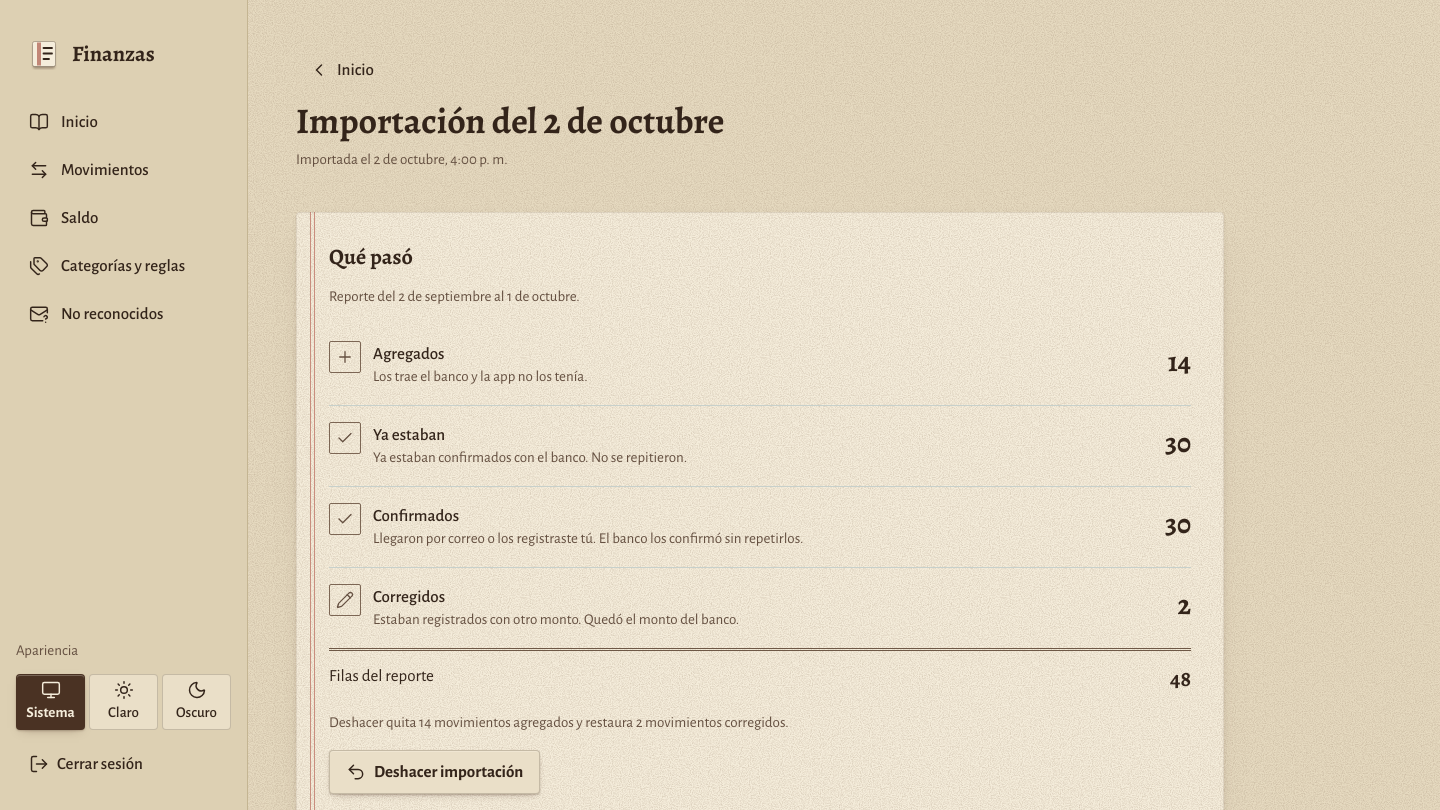
deshacer solo se ofrece cuando lo permite el servidor y exige confirmar
Click the button "Deshacer importación". click: (435, 772)
box: [329,750,540,794]
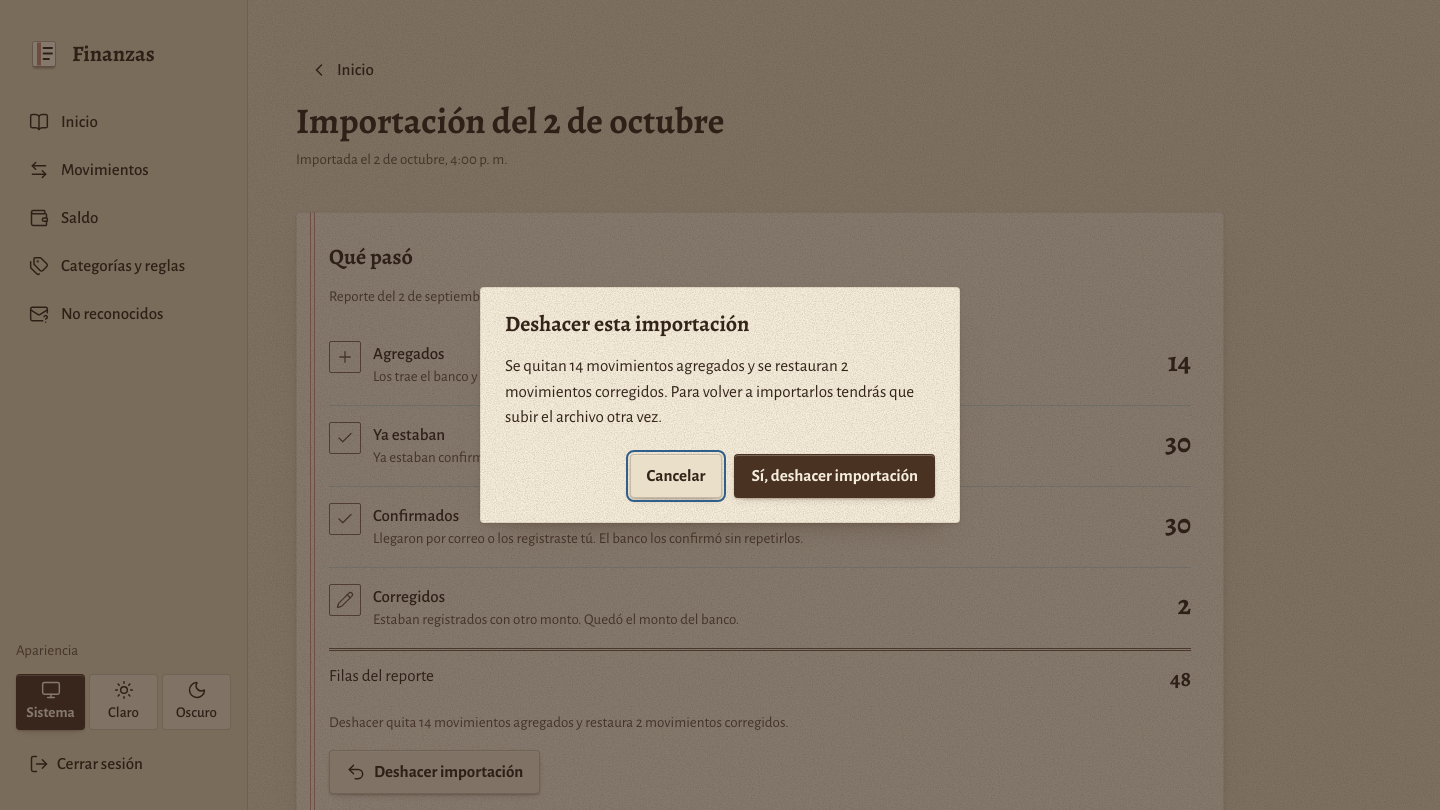
Now the dialog is shown, box [480,287,960,523]
Click the button "Cancelar". click: (676, 476)
box: [630,454,722,498]
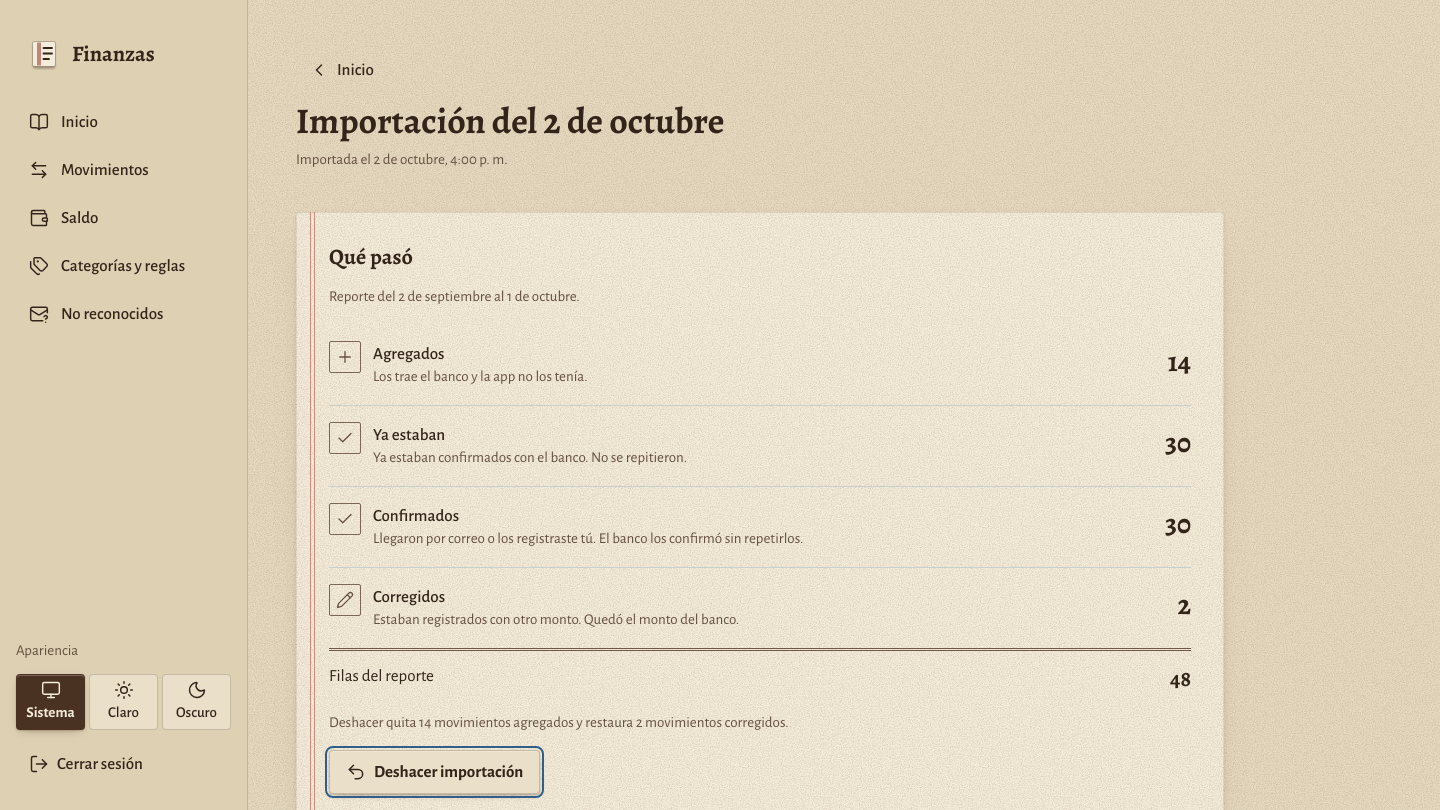
Now the dialog is gone
